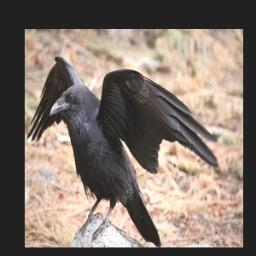Crow: (26, 54, 221, 244)
